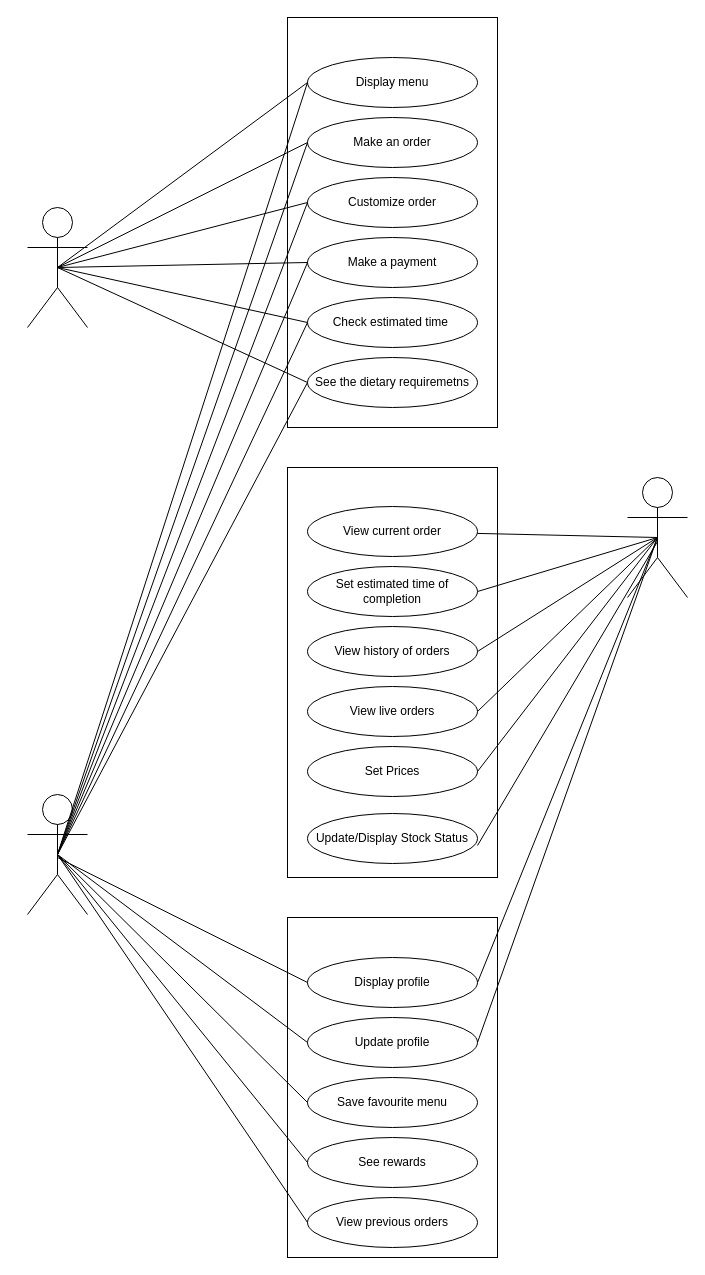
Some shapes in this 705 by 1275 pixel diagram are drawn without their labels. The shapes that lost their labels are listed below. From the top down, each one's box as (x1, y1, x2, y2) in pixels, then its label:
(286, 16, 498, 428): Customer Area
(26, 206, 88, 328): Guest
(626, 476, 688, 598): Restaurant
(286, 466, 498, 878): Admin Area
(26, 794, 88, 914): Account holder
(286, 916, 498, 1258): Account Holder Area
